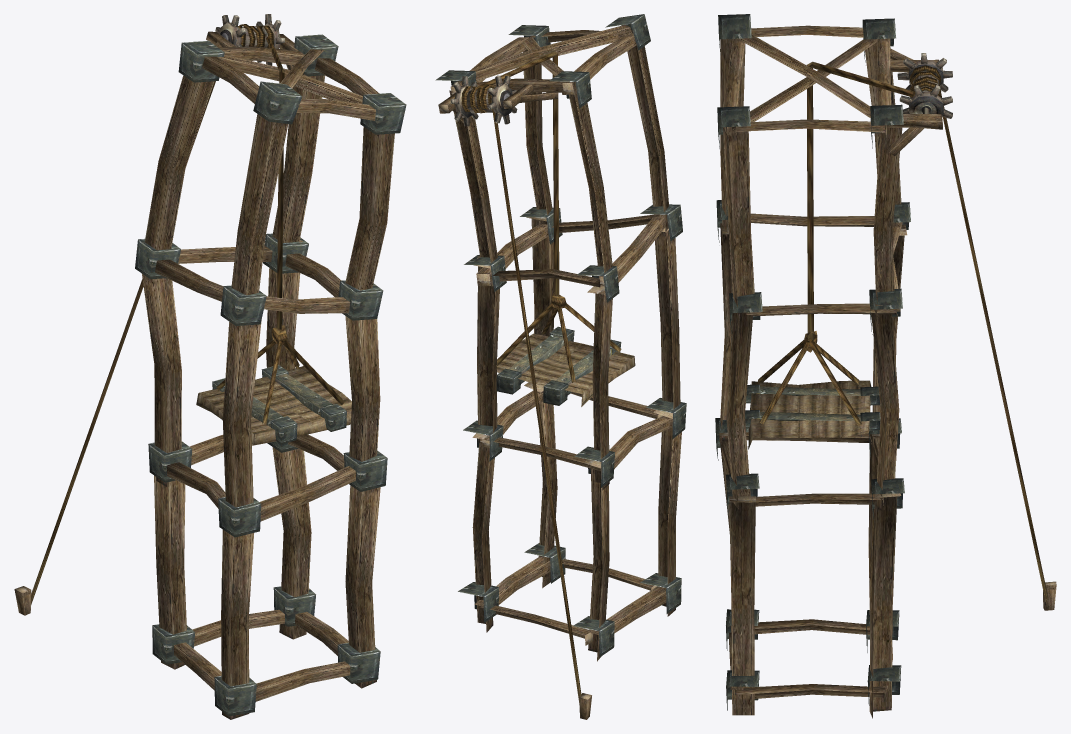
File: S_Build_West062_1.FBX
3 views of the same model, side by side, from view 1: azimuth 30°, elevation 25°; view 2: azimuth 150°, elevation 25°; view 3: azimuth 270°, elevation 25° (orthographic). The views are drawn at different scales.
Visible parts, largest first — view 1: S_Build_West062_1; view 2: S_Build_West062_1; view 3: S_Build_West062_1.
Boxes of the visible parts, x1,y1,x2,y2 form: S_Build_West062_1: [14, 14, 406, 719]; S_Build_West062_1: [435, 14, 686, 719]; S_Build_West062_1: [715, 14, 1056, 718].
Size of the model in its own units: 502 by 1267 by 599.
3 materials, 3 textured.
